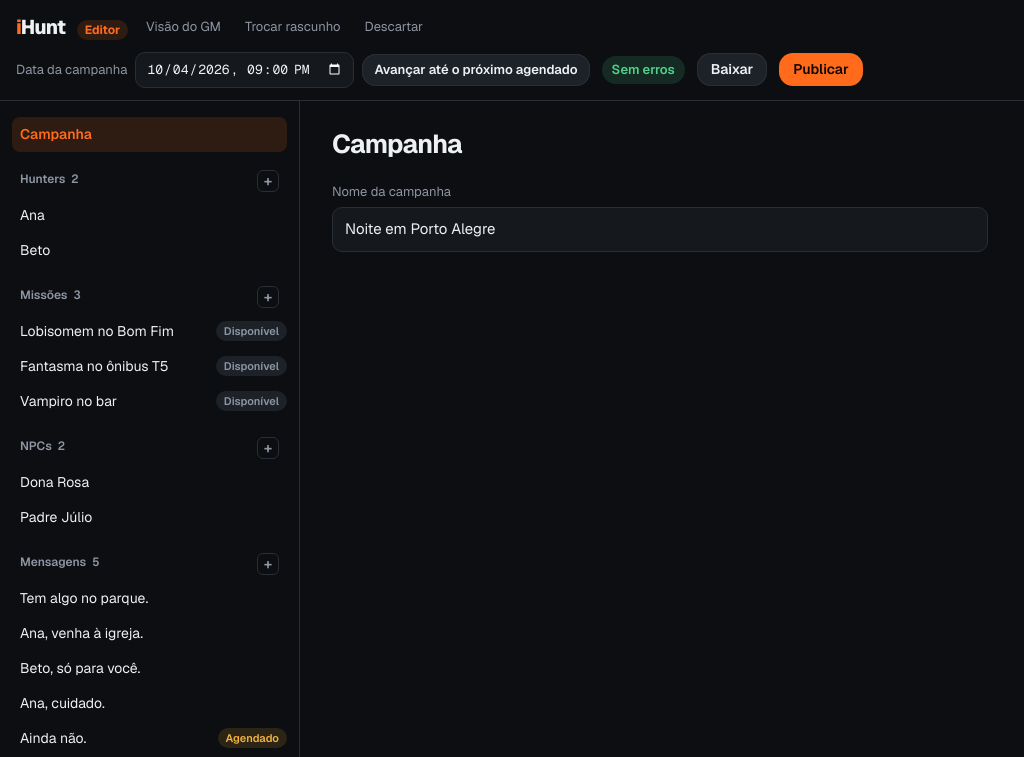
it: Publicar › publishes without asking again when the password is saved
Click the button "Publicar".
click(821, 70)  # box 779,53 -> 863,86
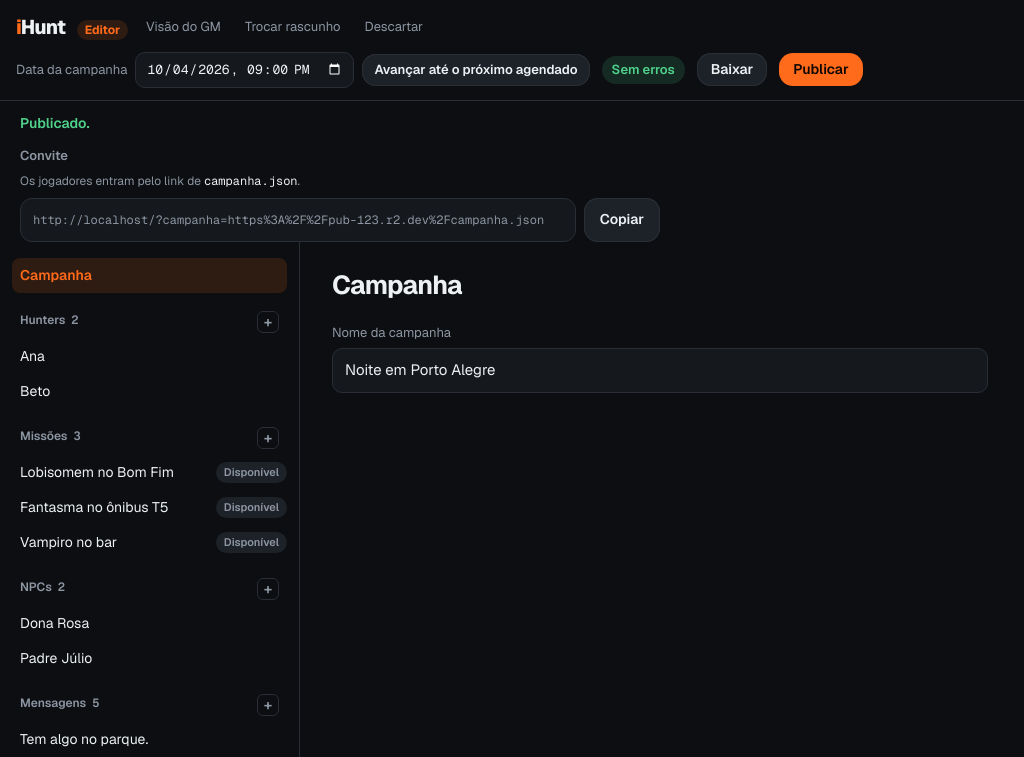
Expected: the text "Publicado." is shown, 20,114 -> 90,132
